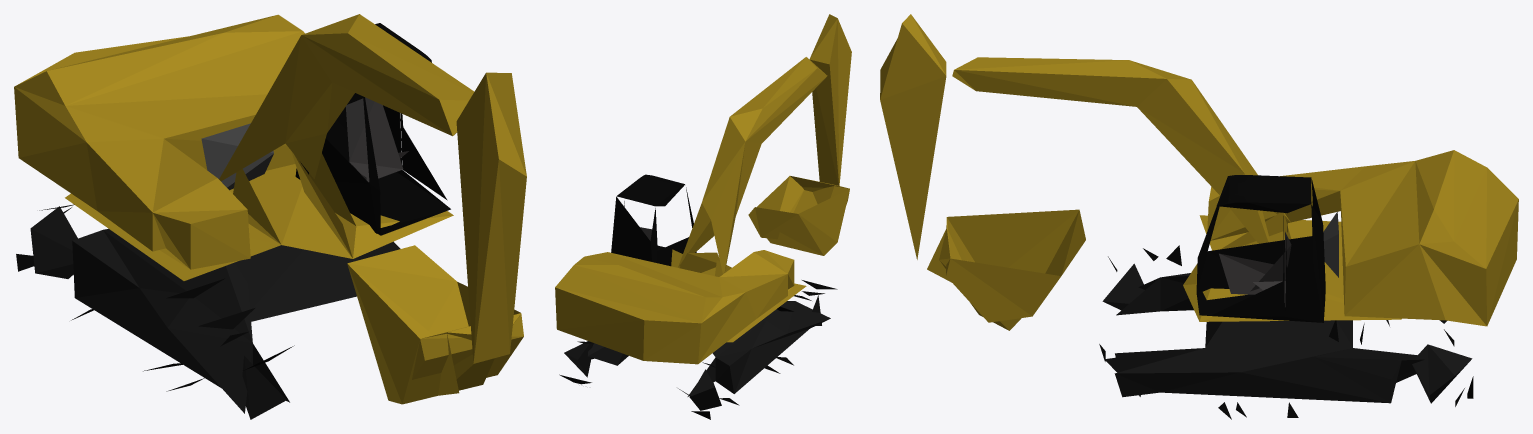
The model's file is excavator.lod2.glb.
3 renders of one model, left to right at view 1: azimuth 30°, elevation 25°; view 2: azimuth 150°, elevation 25°; view 3: azimuth 270°, elevation 25°, orthographic. The views are drawn at different scales.
Visible parts, largest first — view 1: Object_2; view 2: Object_2; view 3: Object_2.
Part boxes in pixels (x1,y1,x2,y2): Object_2: [14, 14, 526, 419]; Object_2: [555, 14, 851, 419]; Object_2: [880, 14, 1518, 419].
Bounding box in the file's own units: 3.82 × 5.84 × 9.61.
